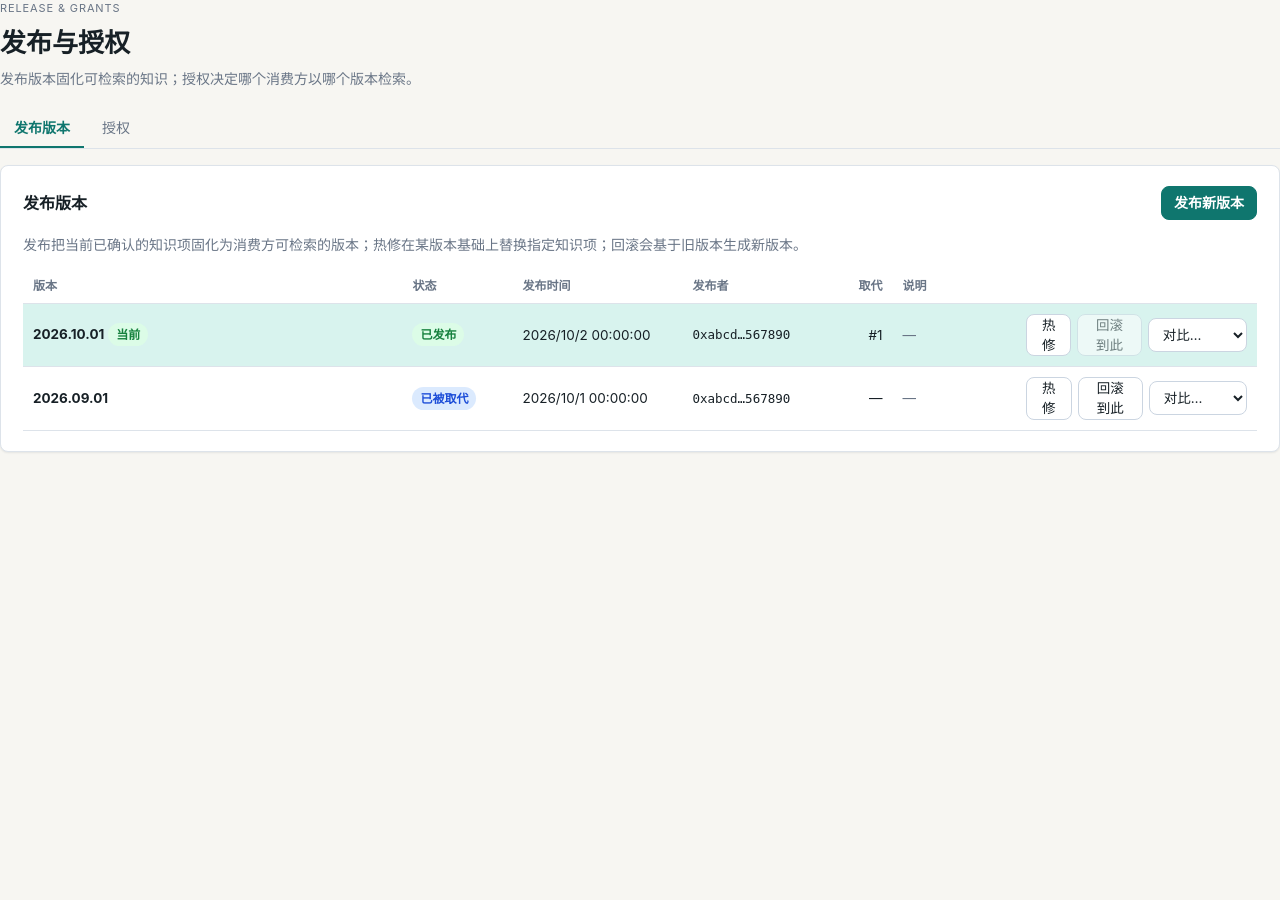
Test: release & grants workbench › diffs two releases by knowledge item
Expected: the text "2026.10.01" is shown, [33,326,104,342]
Step 1. Select "与 2026.09.01" in the dropdown named "对比 2026.10.01" → (1197, 335), box [1148,318,1247,352]
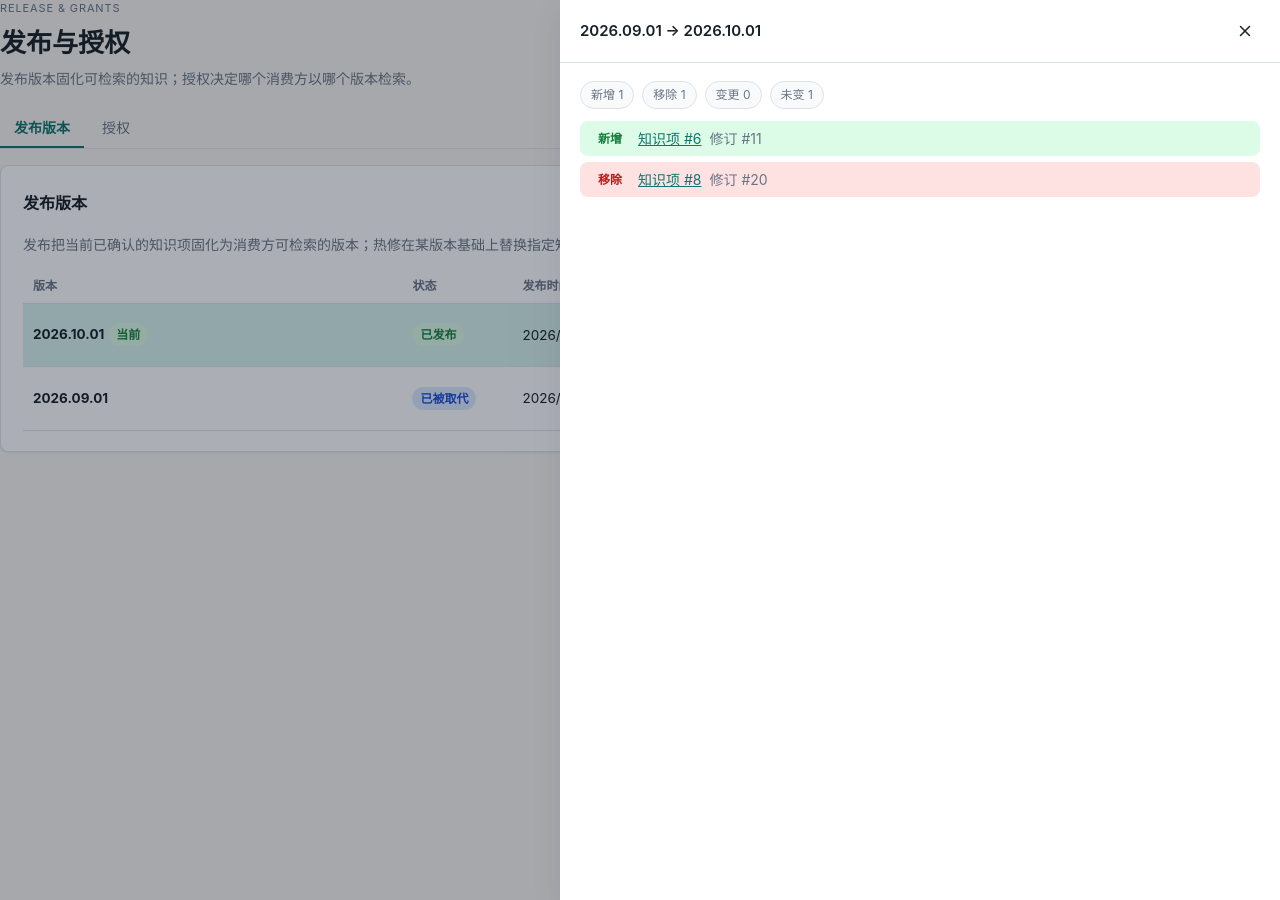
Result: the text "新增" is shown at [590,127,630,150]
Result: the text "移除" is shown at [590,168,630,191]
